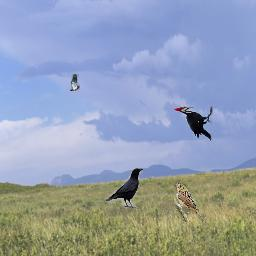Crow: (105, 168, 143, 208)
Sparrow: (174, 182, 206, 222)
Woodpecker: (173, 106, 213, 141), (70, 74, 80, 91)
